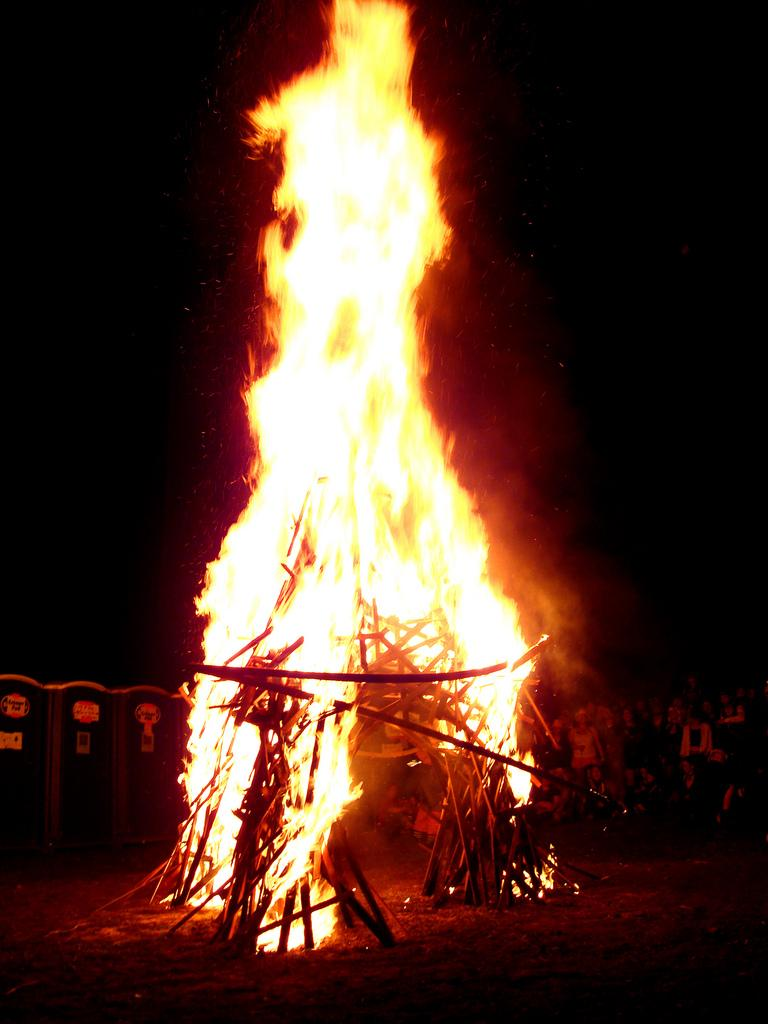fire: (265, 328, 422, 592), (290, 72, 412, 315), (198, 588, 312, 842), (410, 615, 522, 725)
